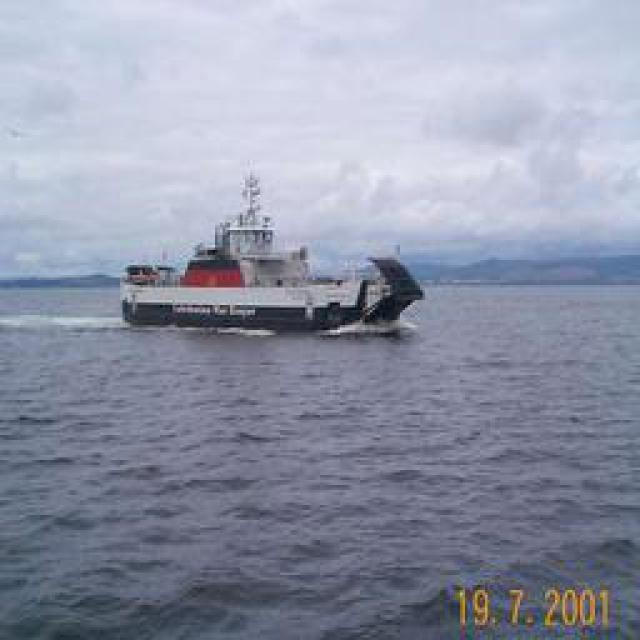Ship: (120, 176, 423, 334)
